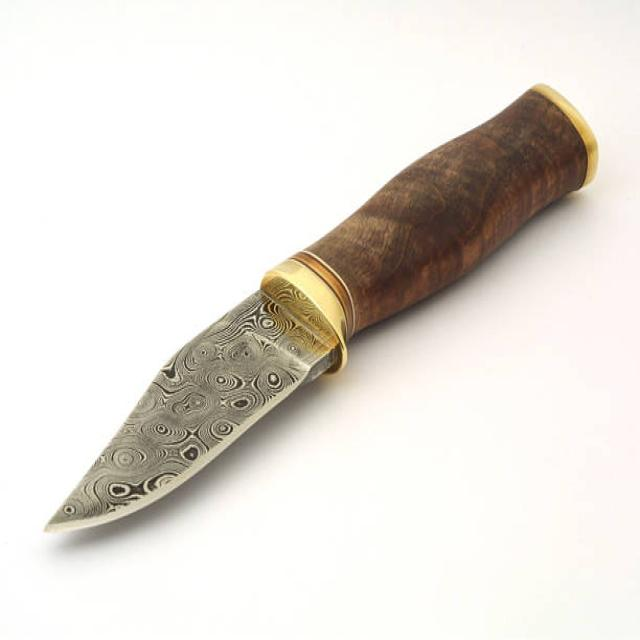knife: (43, 76, 603, 566)
